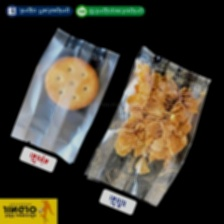snack: (78, 40, 217, 211), (3, 22, 125, 168)
